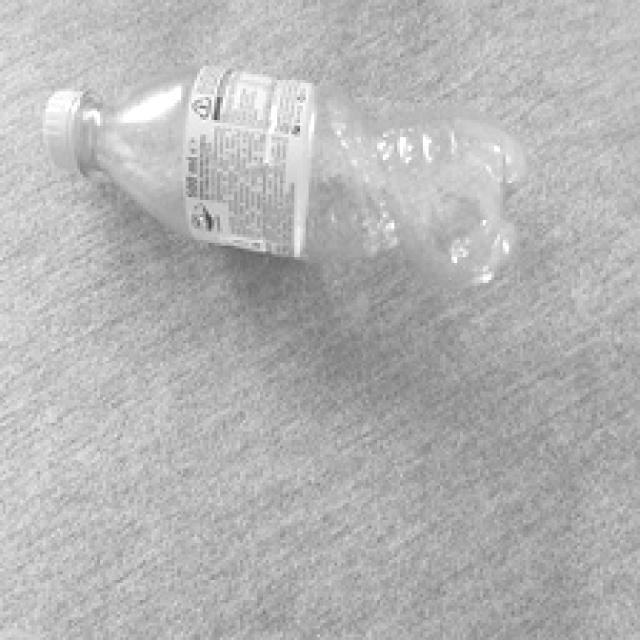bottle: (24, 24, 570, 357)
